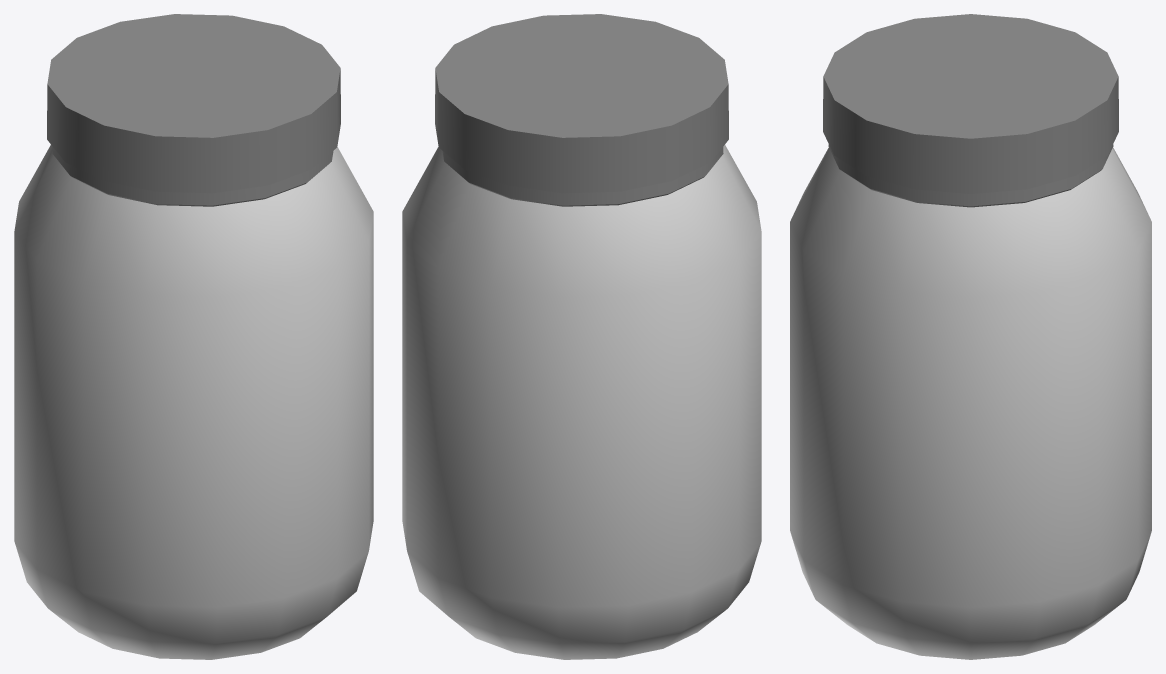
Rendered from jar-2.fbx.
3 renders of one model, left to right at view 1: azimuth 30°, elevation 25°; view 2: azimuth 150°, elevation 25°; view 3: azimuth 270°, elevation 25°, orthographic.
Visible parts, largest first — view 1: jar-2; view 2: jar-2; view 3: jar-2.
Boxes of the visible parts, left/top/right/bottom form: jar-2: left=14, top=14, right=373, bottom=659; jar-2: left=402, top=14, right=761, bottom=659; jar-2: left=790, top=14, right=1151, bottom=659.
Size of the model in its own units: 13.98 by 22.96 by 13.98.
Materials: 2 (1 with a texture image).
